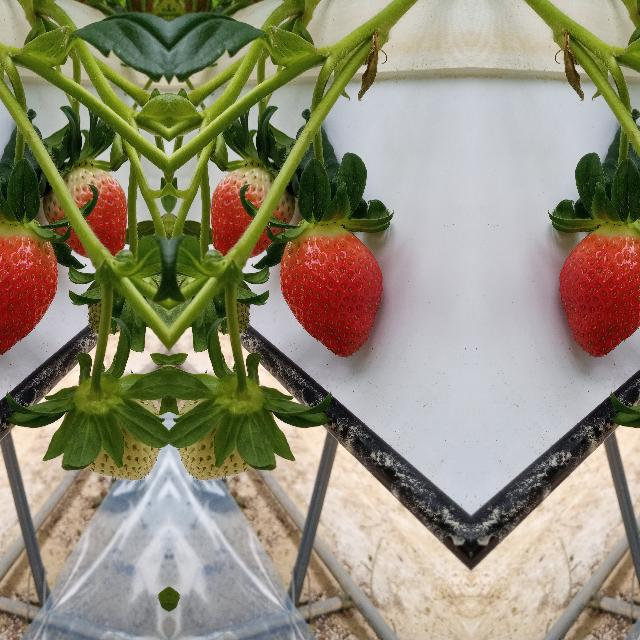Health_100: (278, 226, 382, 358), (558, 226, 640, 358), (0, 226, 58, 358)
